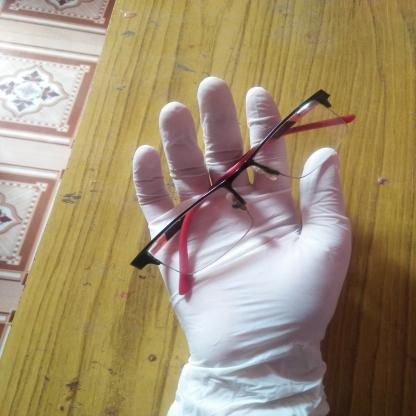gloved_hand: (128, 74, 357, 416)
